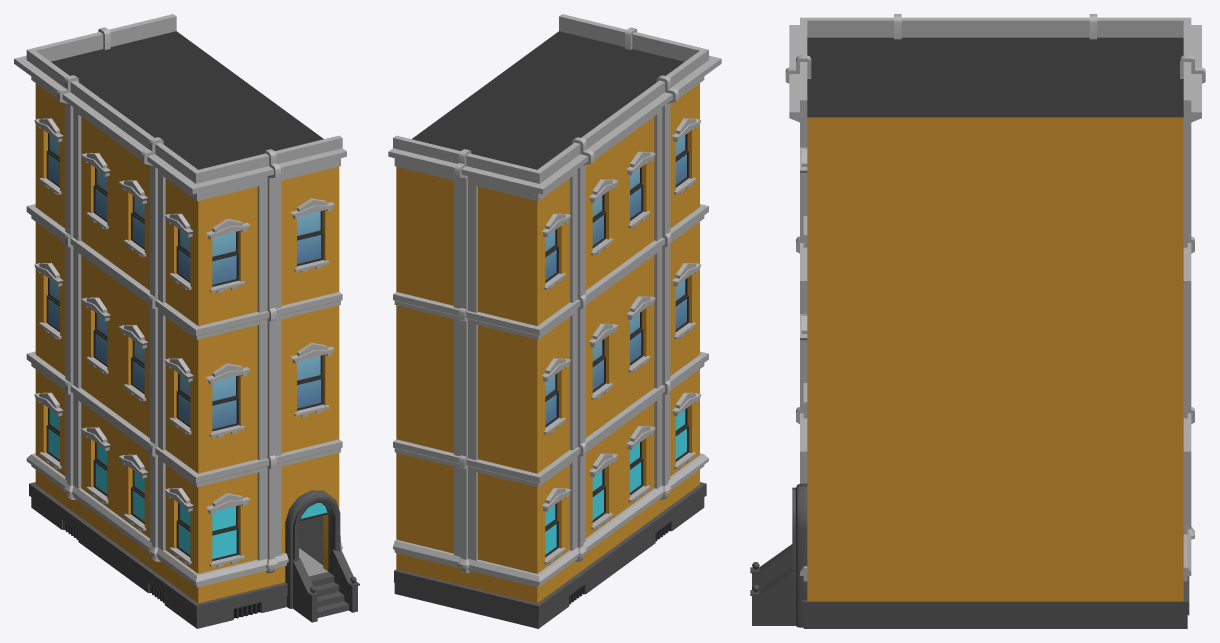
Rendered from SM_Buildings_House_01_V3.fbx.
3 renders of one model, left to right at view 1: azimuth 30°, elevation 25°; view 2: azimuth 150°, elevation 25°; view 3: azimuth 270°, elevation 25°, orthographic. The views are drawn at different scales.
Visible parts, largest first — view 1: SM_Buildings_House_01_V3; view 2: SM_Buildings_House_01_V3; view 3: SM_Buildings_House_01_V3.
Boxes of the visible parts, x1,y1,x2,y2 form: SM_Buildings_House_01_V3: [14, 14, 359, 628]; SM_Buildings_House_01_V3: [388, 14, 721, 628]; SM_Buildings_House_01_V3: [750, 14, 1205, 628].
Bounding box in the file's own units: 5.58 × 15.6 × 12.1.
